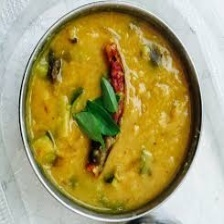dal: (20, 3, 199, 221)
